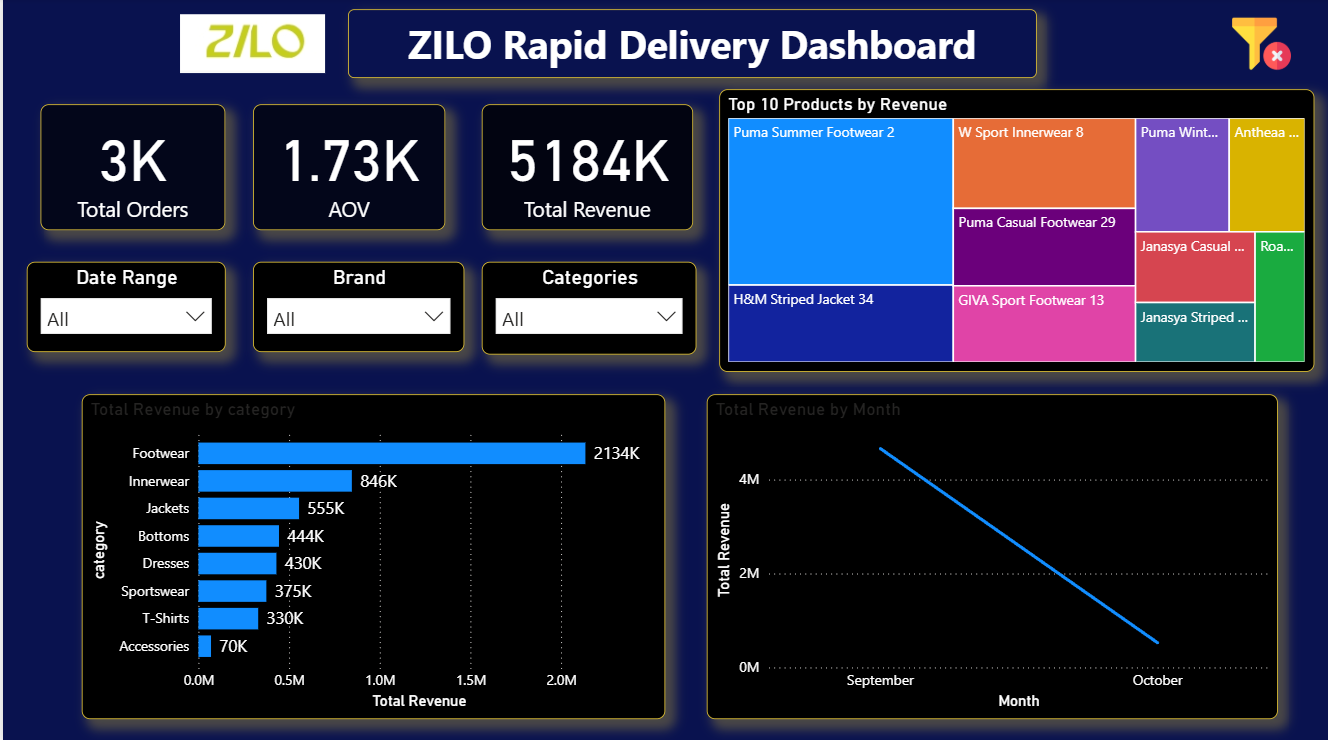

Layout of this report page (visuals, bound fields, positions):
{"tool":"powerbi","page":{"name":"Page 1","canvas":[1280,720],"ordinal":0},"visuals":[{"type":"card","fields":{"Values":["orders_clean.Total Orders"]},"box":[36.2,102.5,178.6,121.9],"z":0},{"type":"card","fields":{"Values":["orders_clean.Total Revenue"]},"box":[462.1,102.5,203.9,121.9],"z":1},{"type":"lineChart","fields":{"Y":["orders_clean.Total Revenue"],"Category":["orders_clean.order_date.Variation.Date Hierarchy.Month","orders_clean.order_date.Variation.Date Hierarchy.Day"]},"box":[679.2,382.4,551.3,313.7],"z":5},{"type":"textbox","box":[333,10.9,664.7,66.4],"z":6},{"type":"image","box":[160.5,10.9,160.5,66.4],"z":7},{"type":"barChart","fields":{"Category":["products_clean.category"],"Y":["orders_clean.Total Revenue"]},"box":[76,382.4,563.4,313.7],"z":8},{"type":"treemap","title":"Top 10 Products by Revenue","fields":{"Group":["top_products_by_revenue.product_name"],"Values":["orders_clean.Total Revenue"]},"box":[691.3,88.1,574.3,272.7],"z":9},{"type":"slicer","title":"Date Range","fields":{"Values":["orders_clean.order_date"]},"box":[22.9,254.6,191.8,86.9],"z":10},{"type":"slicer","title":"Categories","fields":{"Values":["products_clean.category"]},"box":[462.1,254.6,207.5,89.3],"z":11},{"type":"slicer","title":"Brand","fields":{"Values":["products_clean.brand"]},"box":[241.3,254.6,203.9,86.9],"z":12},{"type":"image","box":[1177.5,10.9,74.8,66.4],"z":13},{"type":"card","fields":{"Values":["orders_clean.AOV"]},"box":[241.3,102.5,185.8,121.9],"z":14}]}

Visuals, with their boxes in screenshot pixels (x1, y1, x2, y2), scaled from the page's 1280x720 canvas onto the 1328x740 screenshot:
card - orders_clean.Total Orders: <box>38,105,223,231</box>
card - orders_clean.Total Revenue: <box>479,105,691,231</box>
lineChart - orders_clean.Total Revenue x orders_clean.order_date.Variation.Date Hierarchy.Month: <box>705,393,1277,715</box>
textbox: <box>345,11,1035,79</box>
image: <box>167,11,333,79</box>
barChart - products_clean.category x orders_clean.Total Revenue: <box>79,393,663,715</box>
"Top 10 Products by Revenue" treemap: <box>717,91,1313,371</box>
"Date Range" slicer: <box>24,262,223,351</box>
"Categories" slicer: <box>479,262,695,353</box>
"Brand" slicer: <box>250,262,462,351</box>
image: <box>1222,11,1299,79</box>
card - orders_clean.AOV: <box>250,105,443,231</box>
